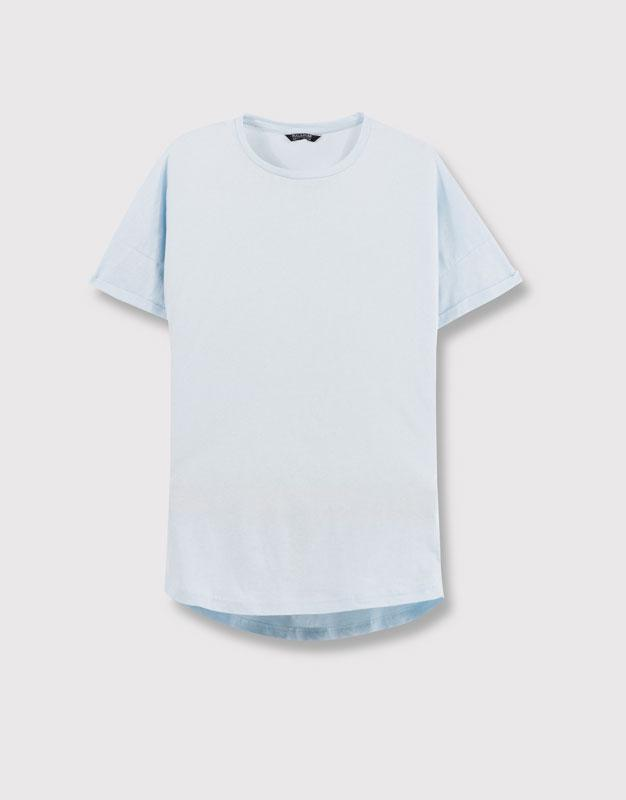teeshirt: (100, 108, 542, 661)
